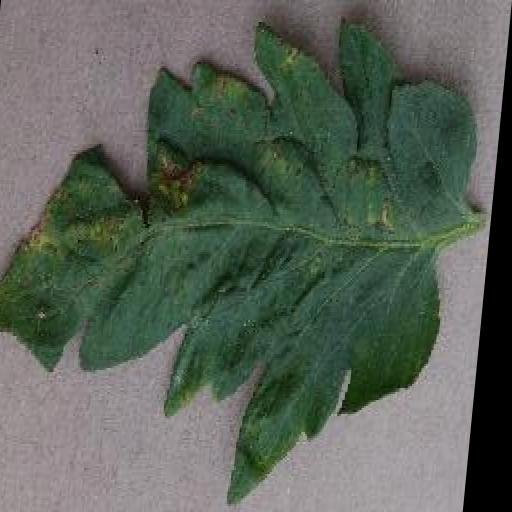Bacterial Spot: (0, 9, 492, 511)
